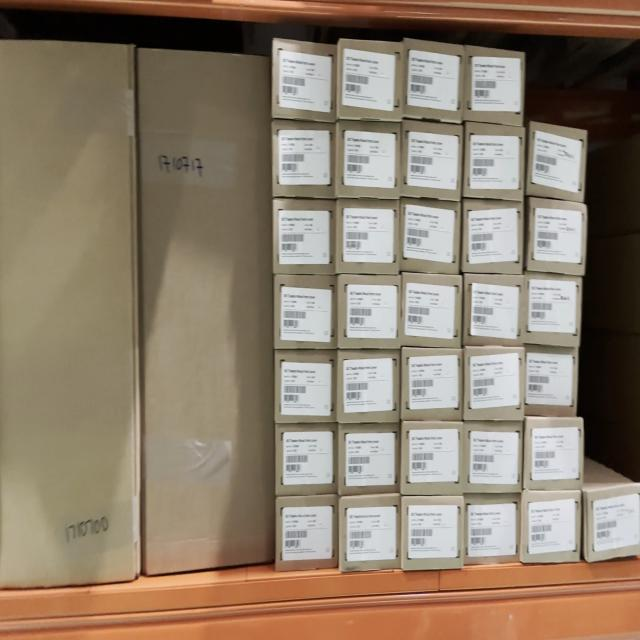box: (0, 38, 139, 580), (139, 47, 277, 572), (272, 37, 337, 127), (336, 195, 404, 278), (339, 40, 401, 126), (402, 37, 463, 124), (338, 278, 404, 356), (337, 490, 403, 568), (466, 47, 524, 129), (274, 197, 336, 273), (466, 128, 528, 202), (336, 121, 400, 192), (277, 349, 336, 426), (401, 418, 464, 490), (404, 123, 462, 201), (275, 277, 336, 351), (464, 345, 525, 419), (403, 274, 462, 350), (403, 493, 463, 566), (276, 425, 338, 495), (530, 200, 588, 274), (465, 271, 525, 342), (463, 202, 525, 270), (523, 489, 581, 561), (404, 200, 460, 274), (274, 126, 334, 195), (340, 424, 400, 493), (532, 124, 586, 200), (338, 351, 398, 419), (525, 348, 582, 419), (401, 350, 462, 416), (463, 489, 518, 560), (465, 422, 525, 484), (526, 421, 582, 487), (280, 499, 335, 566), (530, 274, 580, 345), (588, 493, 640, 561)
